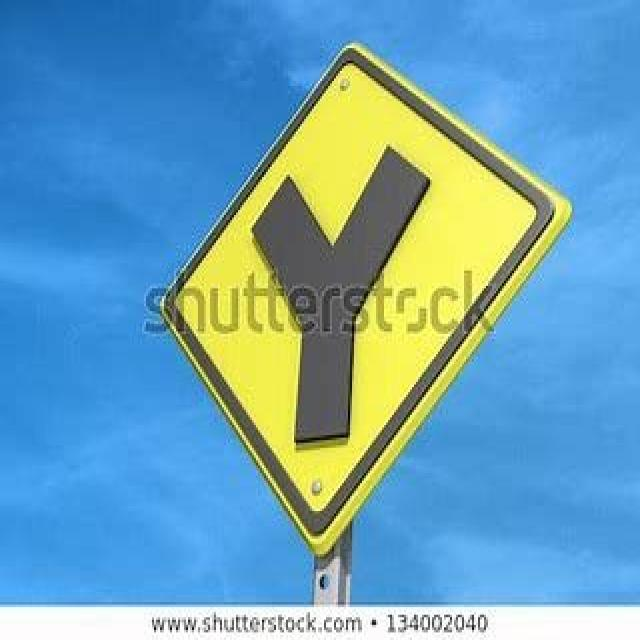Y_INTERSECTION: (147, 36, 589, 571)
